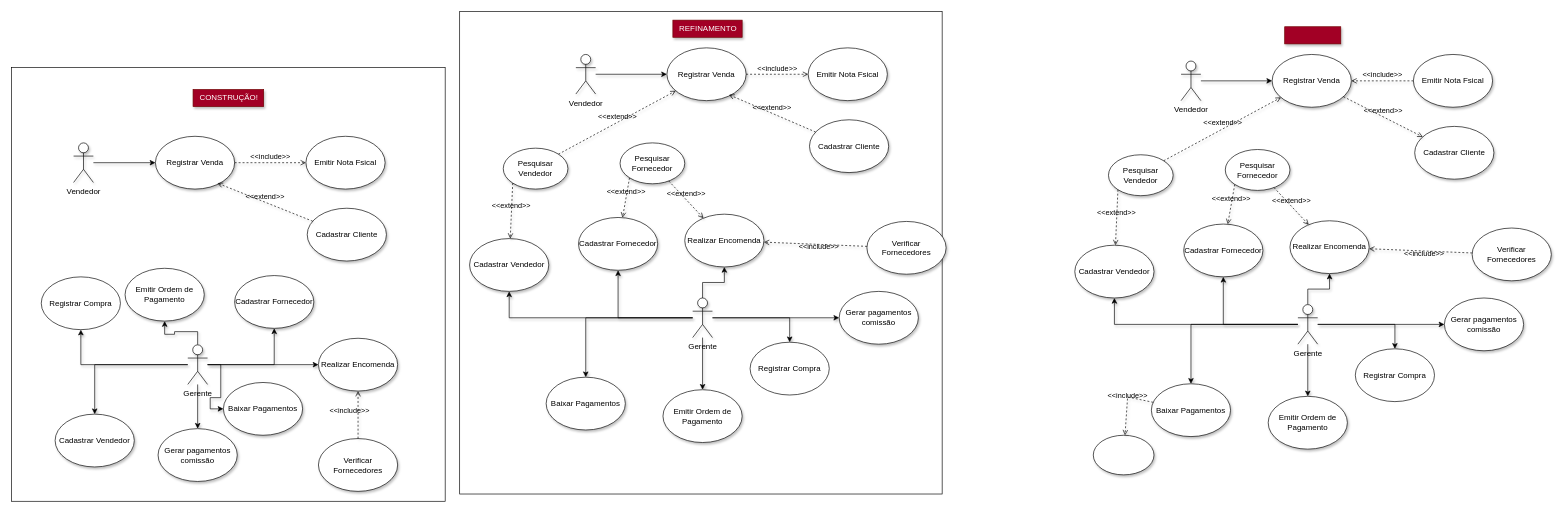
Image size: 1567x513. Some labels were removed from this diagram. Here are the shapes that lost their labels. From the top down, the centre of each, then its label:
At point 1313,36: "EVOLUÇÃO".
At point 1124,455: "Importar dados".
